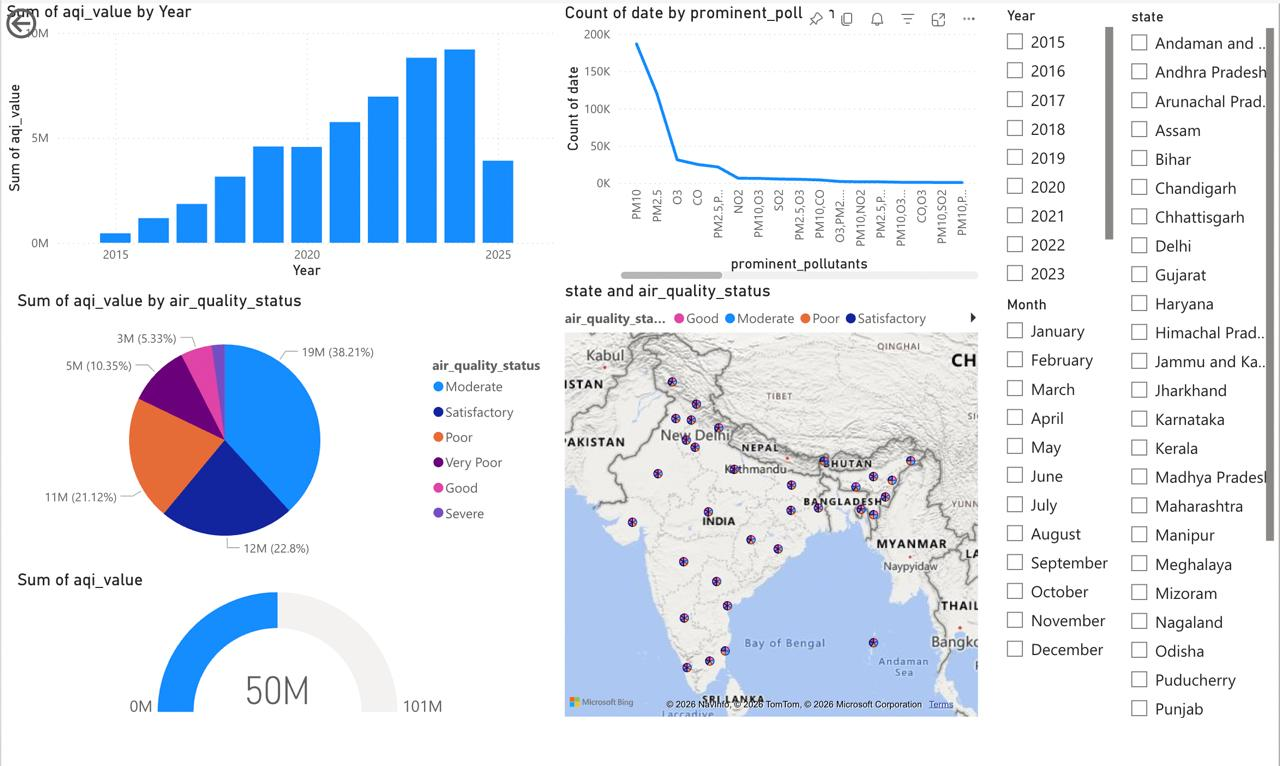

This screenshot's page, from the dashboard's own definition file:
{"tool":"powerbi","page":{"name":"Page 1","canvas":[1280,720],"ordinal":0},"visuals":[{"type":"columnChart","fields":{"Category":["day_wise_aqi_data.date.Variation.Date Hierarchy.Year"],"Y":["Sum(day_wise_aqi_data.aqi_value)"]},"box":[0,0,559.4,280.4],"z":0},{"type":"pieChart","fields":{"Category":["day_wise_aqi_data.air_quality_status"],"Y":["Sum(day_wise_aqi_data.aqi_value)"]},"box":[10.5,289.5,549,280.4],"z":1000},{"type":"gauge","fields":{"Y":["Sum(day_wise_aqi_data.aqi_value)"]},"box":[10.5,569.9,549,150.7],"z":3000},{"type":"map","fields":{"Category":["day_wise_aqi_data.state"],"Series":["day_wise_aqi_data.air_quality_status"]},"box":[559.4,280.4,424.5,440.2],"z":3001},{"type":"slicer","fields":{"Values":["day_wise_aqi_data.state"]},"box":[1118.8,1.3,161.2,719.3],"z":3002},{"type":"lineChart","fields":{"Category":["day_wise_aqi_data.prominent_pollutants"],"Y":["CountNonNull(day_wise_aqi_data.date)"]},"box":[559.4,1.3,424.5,280.4],"z":3003},{"type":"actionButton","box":[0,0,100,40],"z":3005},{"type":"slicer","fields":{"Values":["day_wise_aqi_data.date.Variation.Date Hierarchy.Year"]},"box":[994.4,0,124.5,289.5],"z":3006},{"type":"slicer","fields":{"Values":["day_wise_aqi_data.date.Variation.Date Hierarchy.Month"]},"box":[994.4,289.5,124.5,431],"z":3007}]}

Visuals, with their boxes on the page's 1280x720 design canvas (x1, y1, x2, y2). These are canvas units, not pixel positions in the 1280x766 screenshot, which may show the page scaled, cropped or inside an application window:
columnChart - day_wise_aqi_data.date.Variation.Date Hierarchy.Year x Sum(day_wise_aqi_data.aqi_value): <box>0,0,559,280</box>
pieChart - day_wise_aqi_data.air_quality_status x Sum(day_wise_aqi_data.aqi_value): <box>10,290,560,570</box>
gauge - Sum(day_wise_aqi_data.aqi_value): <box>10,570,560,721</box>
map - day_wise_aqi_data.state x day_wise_aqi_data.air_quality_status: <box>559,280,984,721</box>
slicer - day_wise_aqi_data.state: <box>1119,1,1280,721</box>
lineChart - day_wise_aqi_data.prominent_pollutants x CountNonNull(day_wise_aqi_data.date): <box>559,1,984,282</box>
actionButton: <box>0,0,100,40</box>
slicer - day_wise_aqi_data.date.Variation.Date Hierarchy.Year: <box>994,0,1119,290</box>
slicer - day_wise_aqi_data.date.Variation.Date Hierarchy.Month: <box>994,290,1119,720</box>
